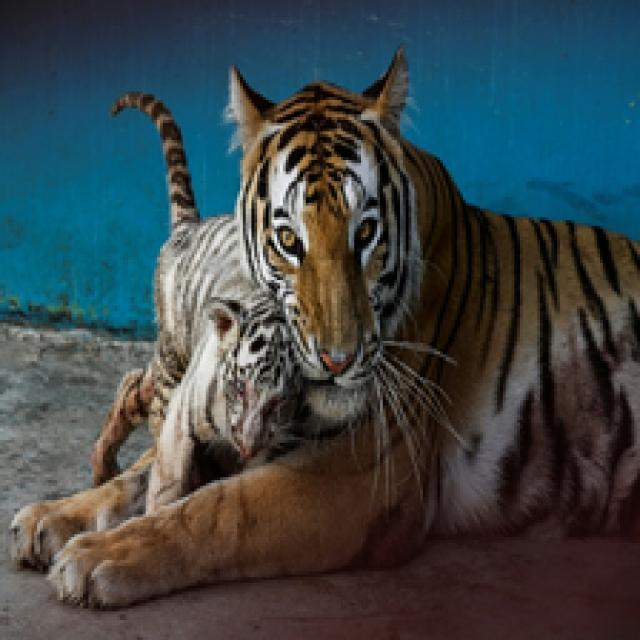tiger: (25, 66, 640, 640), (83, 84, 323, 505)
